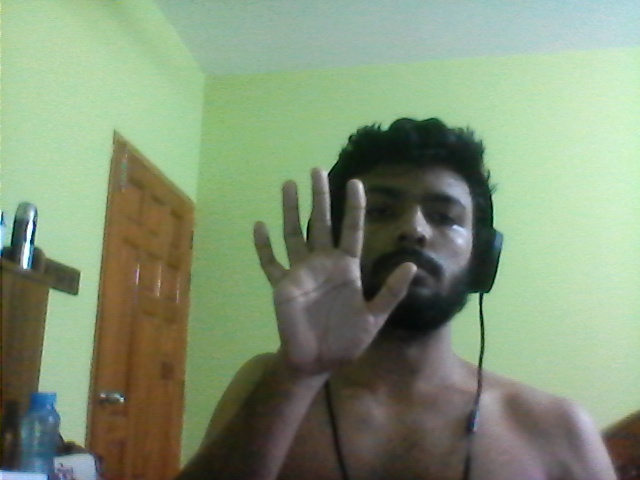Hello: (236, 159, 427, 383)
